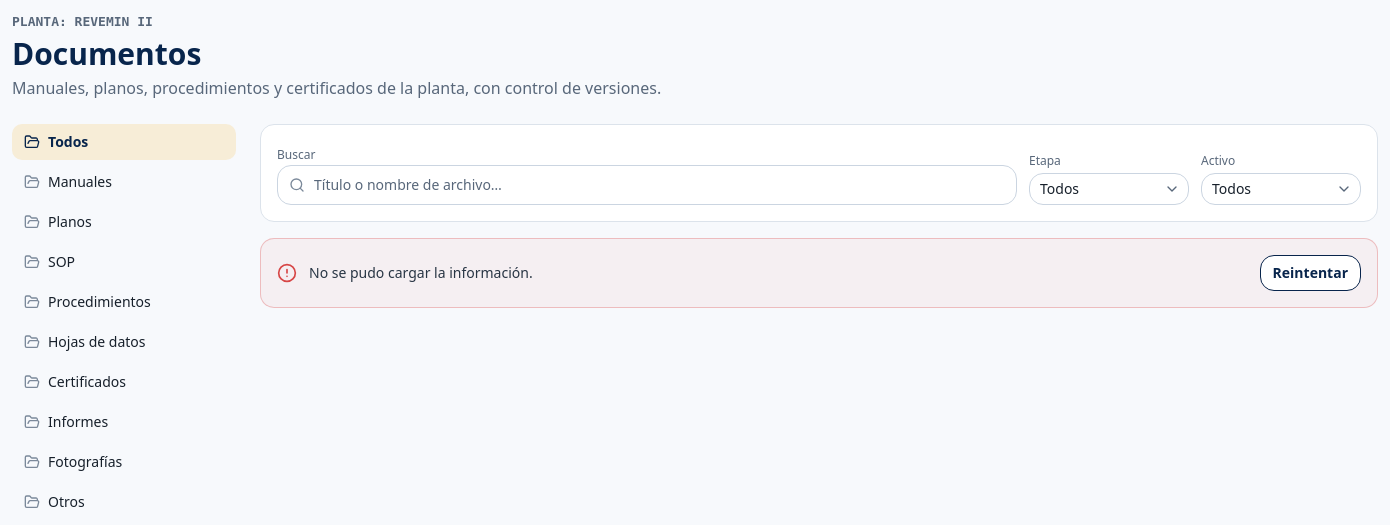
Test case: Documentos (página) › estados vacíos, carga y error › error del servidor: alerta con reintentar
Expected: the message shows "No se pudo cargar", [309, 262, 533, 282]
Click the button "Reintentar": {"x": 1310, "y": 272} [1260, 254, 1361, 290]
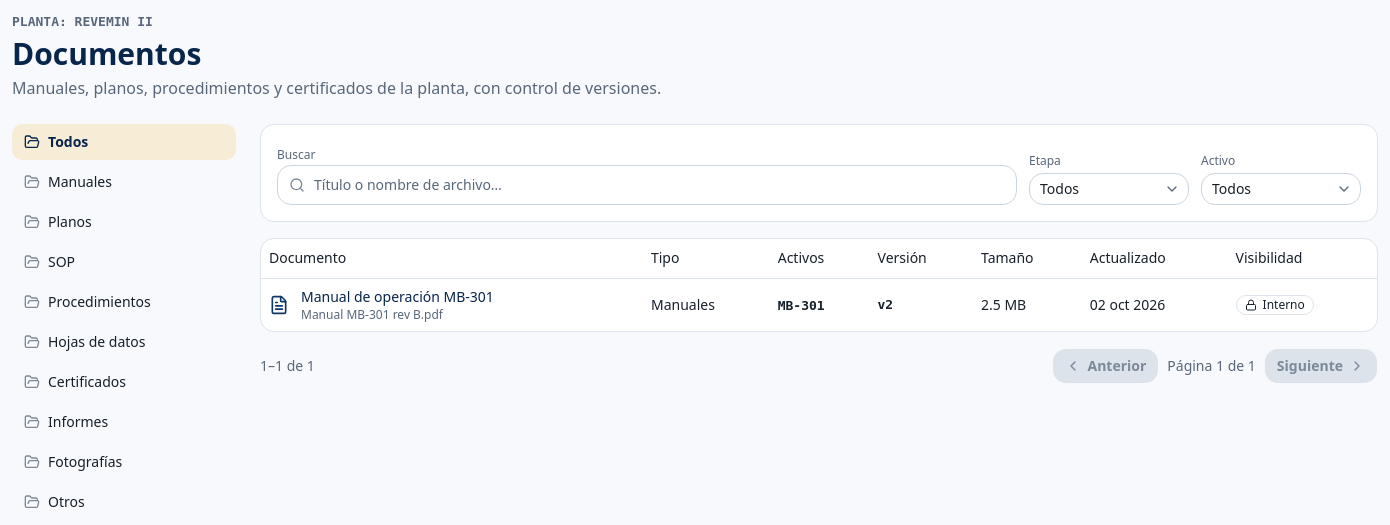
Now the button "Manual de operación MB-301" is shown, box [301, 287, 494, 307]
